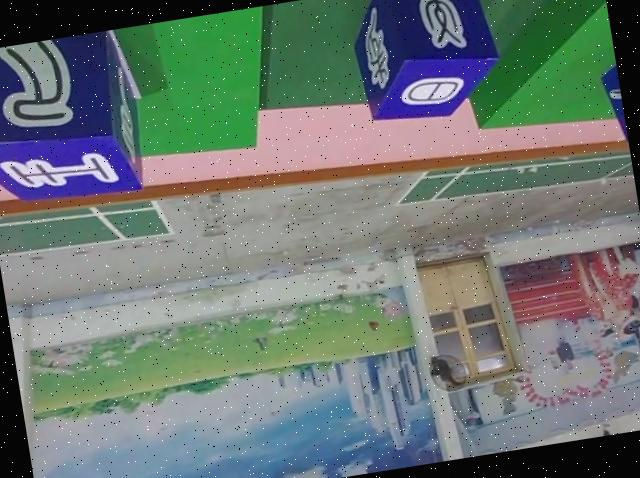R1 Blue: (596, 31, 630, 149)
R2 Fake Blue: (0, 27, 153, 216), (344, 0, 505, 127)
